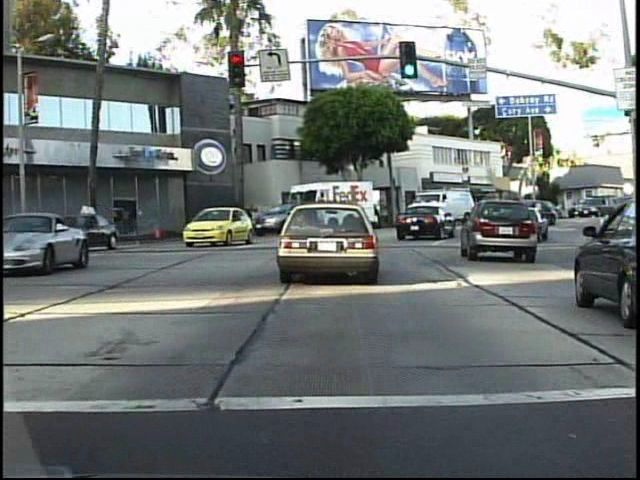person: (245, 199, 264, 225)
